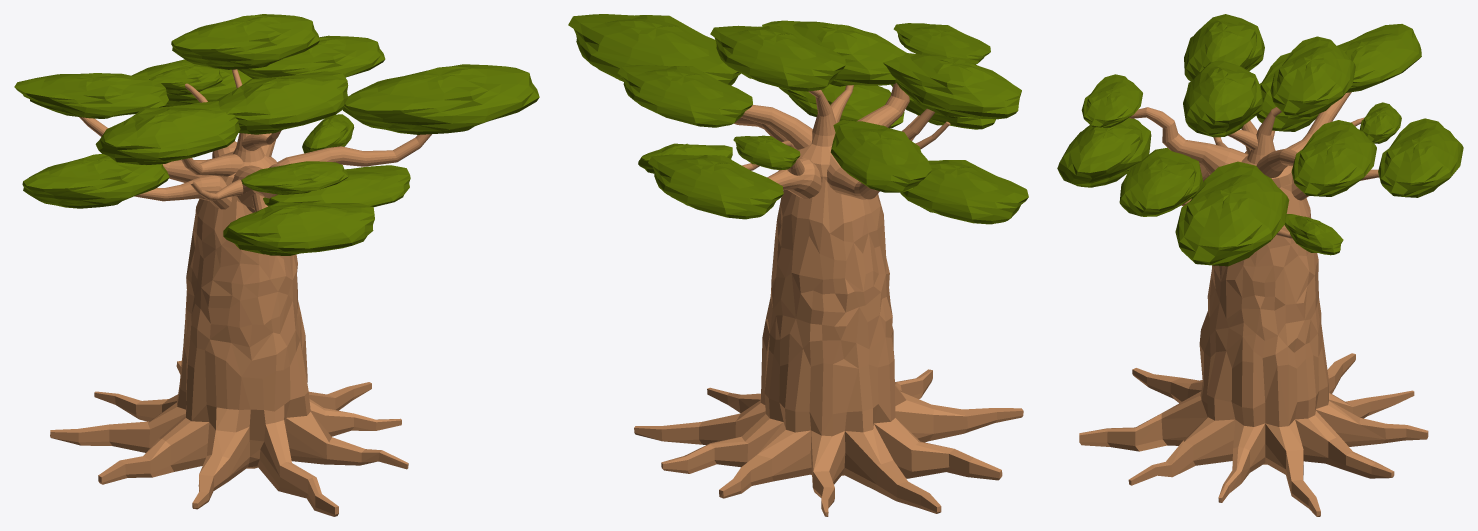
File: Baobab Tree1.fbx
3 renders of one model, left to right at view 1: azimuth 30°, elevation 25°; view 2: azimuth 150°, elevation 25°; view 3: azimuth 270°, elevation 25°, orthographic. The views are drawn at different scales.
Parts seen in each view (by area): view 1: Baobab 1; view 2: Baobab 1; view 3: Baobab 1.
Part boxes in pixels (x1,y1,x2,y2): Baobab 1: (14, 14, 539, 516); Baobab 1: (568, 14, 1028, 516); Baobab 1: (1057, 14, 1463, 516).
Size of the model in its own units: 2991 by 2519 by 2284.
1 material, 1 textured.
